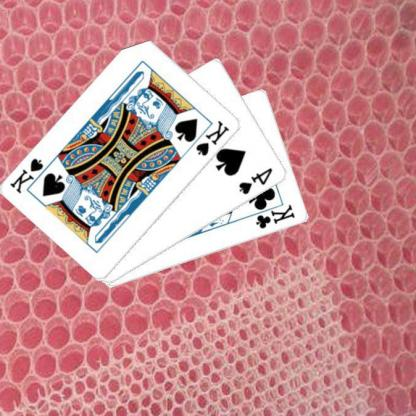4S: (238, 165, 276, 196)
KC: (248, 200, 298, 230)
KS: (9, 155, 55, 195), (195, 118, 233, 157)
